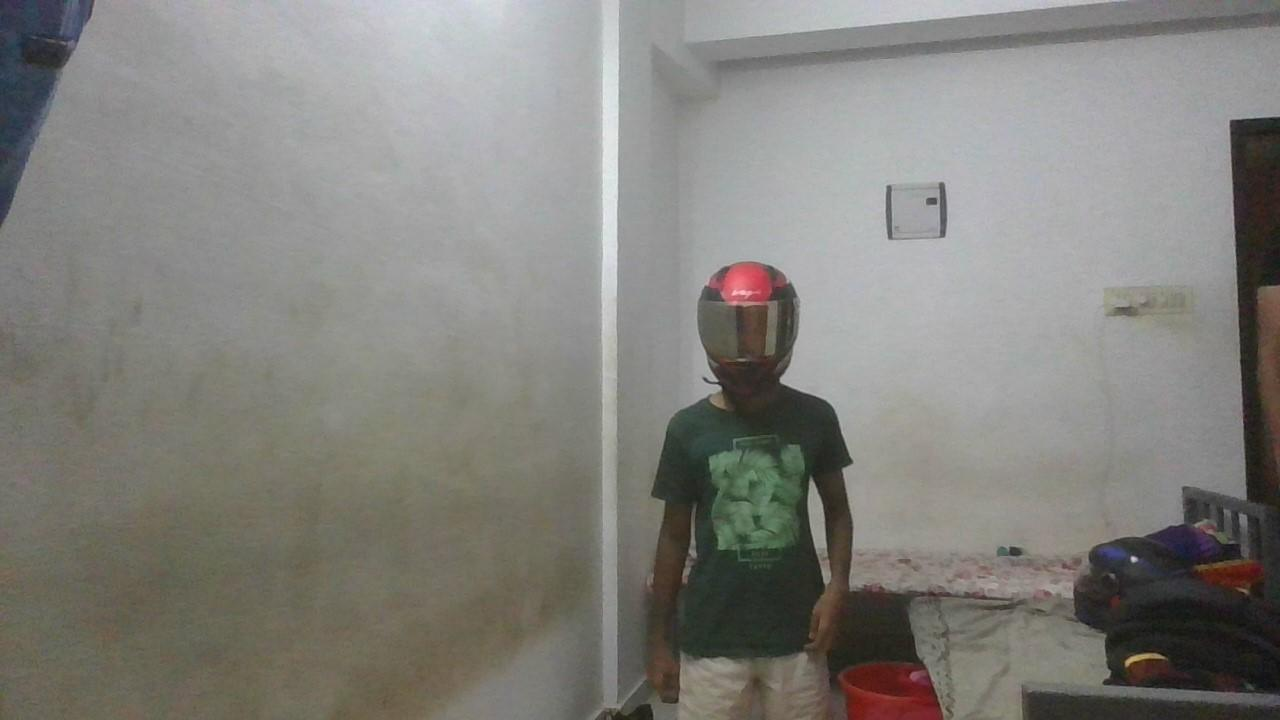helmet: (696, 260, 802, 399)
